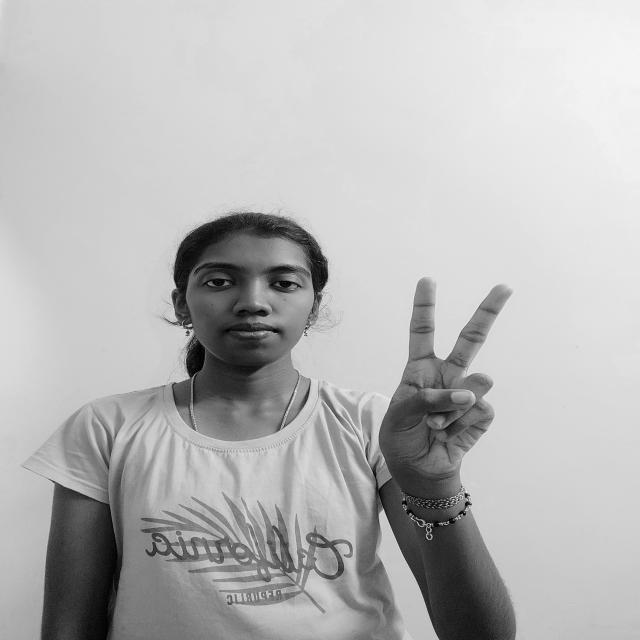Victory: (370, 272, 522, 491)
